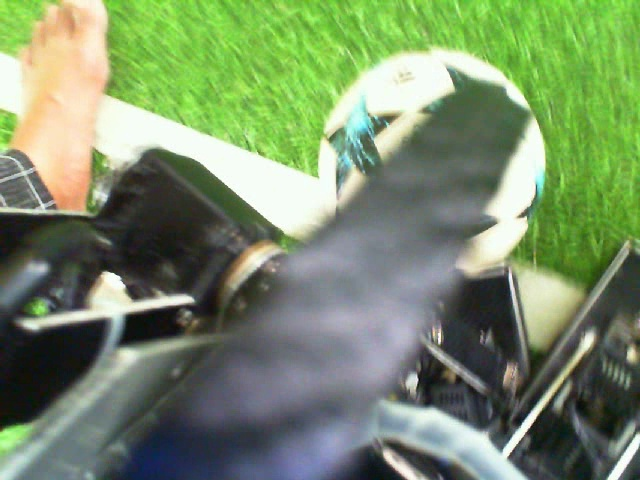ball: (317, 44, 473, 227)
